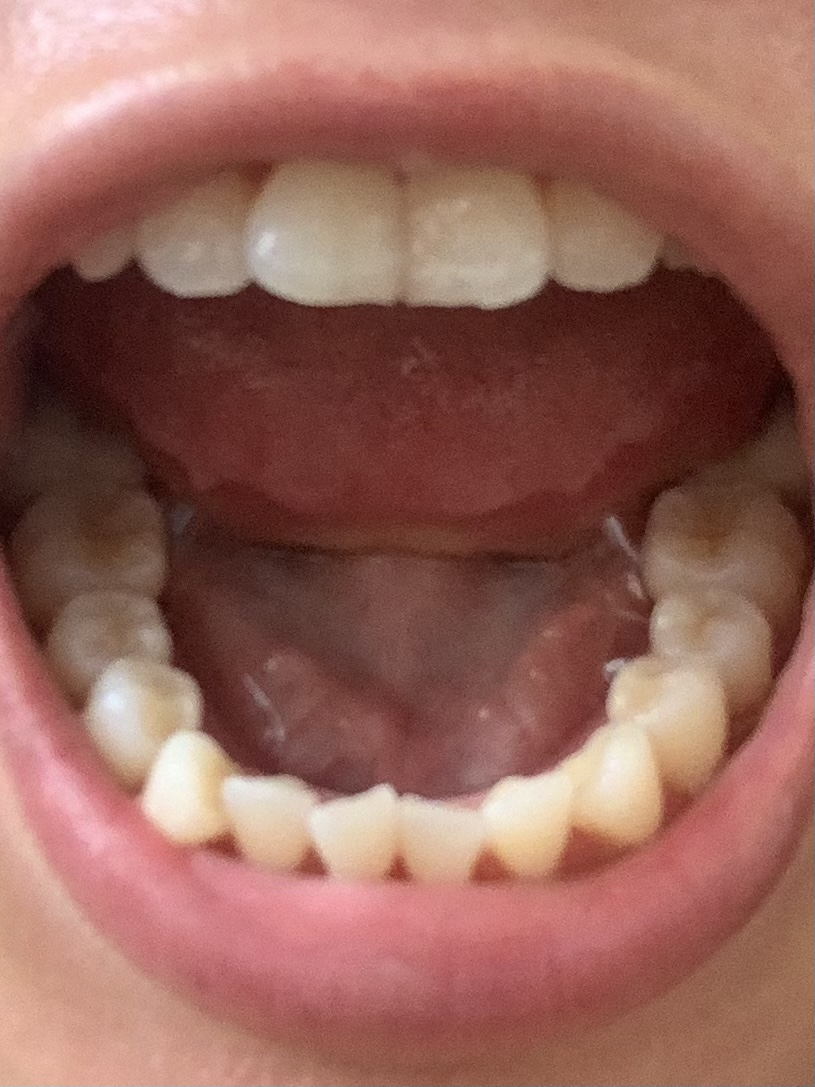teeth: (239, 154, 396, 317), (651, 483, 799, 649), (403, 168, 547, 309), (614, 658, 742, 793), (77, 660, 203, 792), (140, 154, 252, 300), (26, 488, 163, 605), (645, 592, 775, 702), (549, 725, 660, 853), (548, 175, 664, 288), (46, 595, 177, 693), (482, 766, 578, 881), (36, 402, 147, 499), (143, 740, 245, 844), (224, 776, 309, 874), (317, 785, 392, 876), (393, 800, 473, 879), (64, 212, 134, 290)
